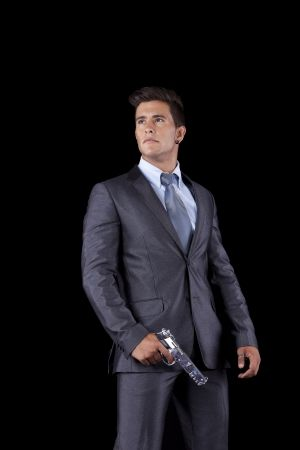gun: (144, 326, 212, 394)
person: (78, 82, 267, 450)
